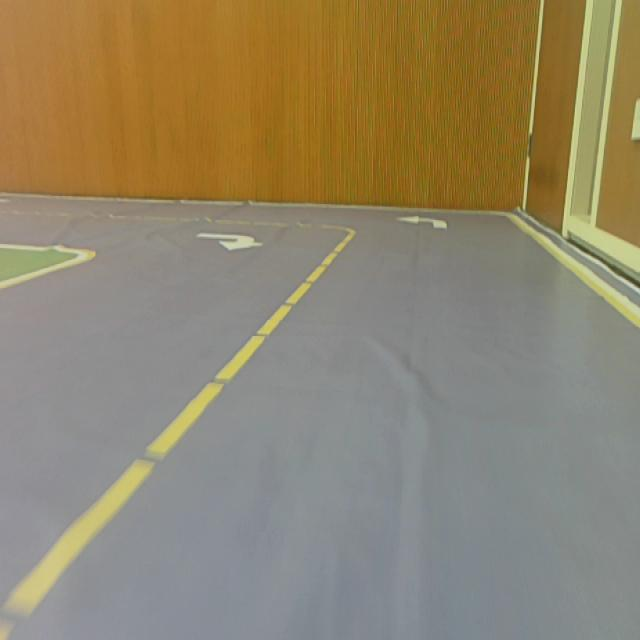left_lane: (0, 232, 358, 640)
right_lane: (504, 213, 640, 332)
